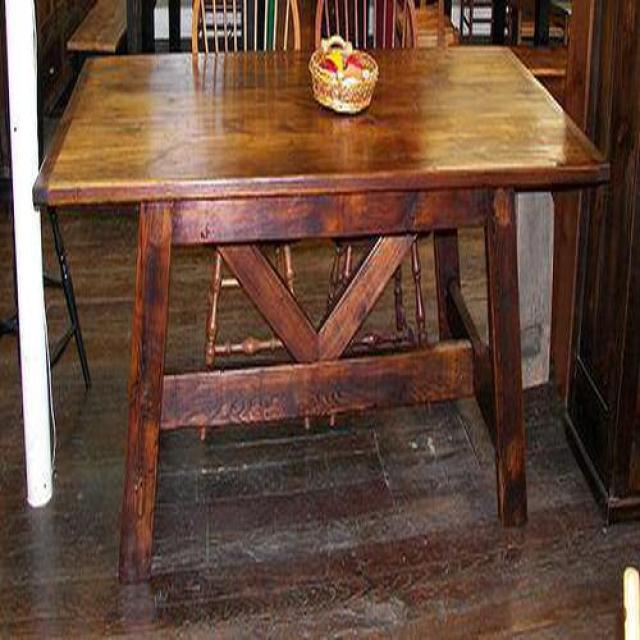table: (33, 41, 613, 586)
